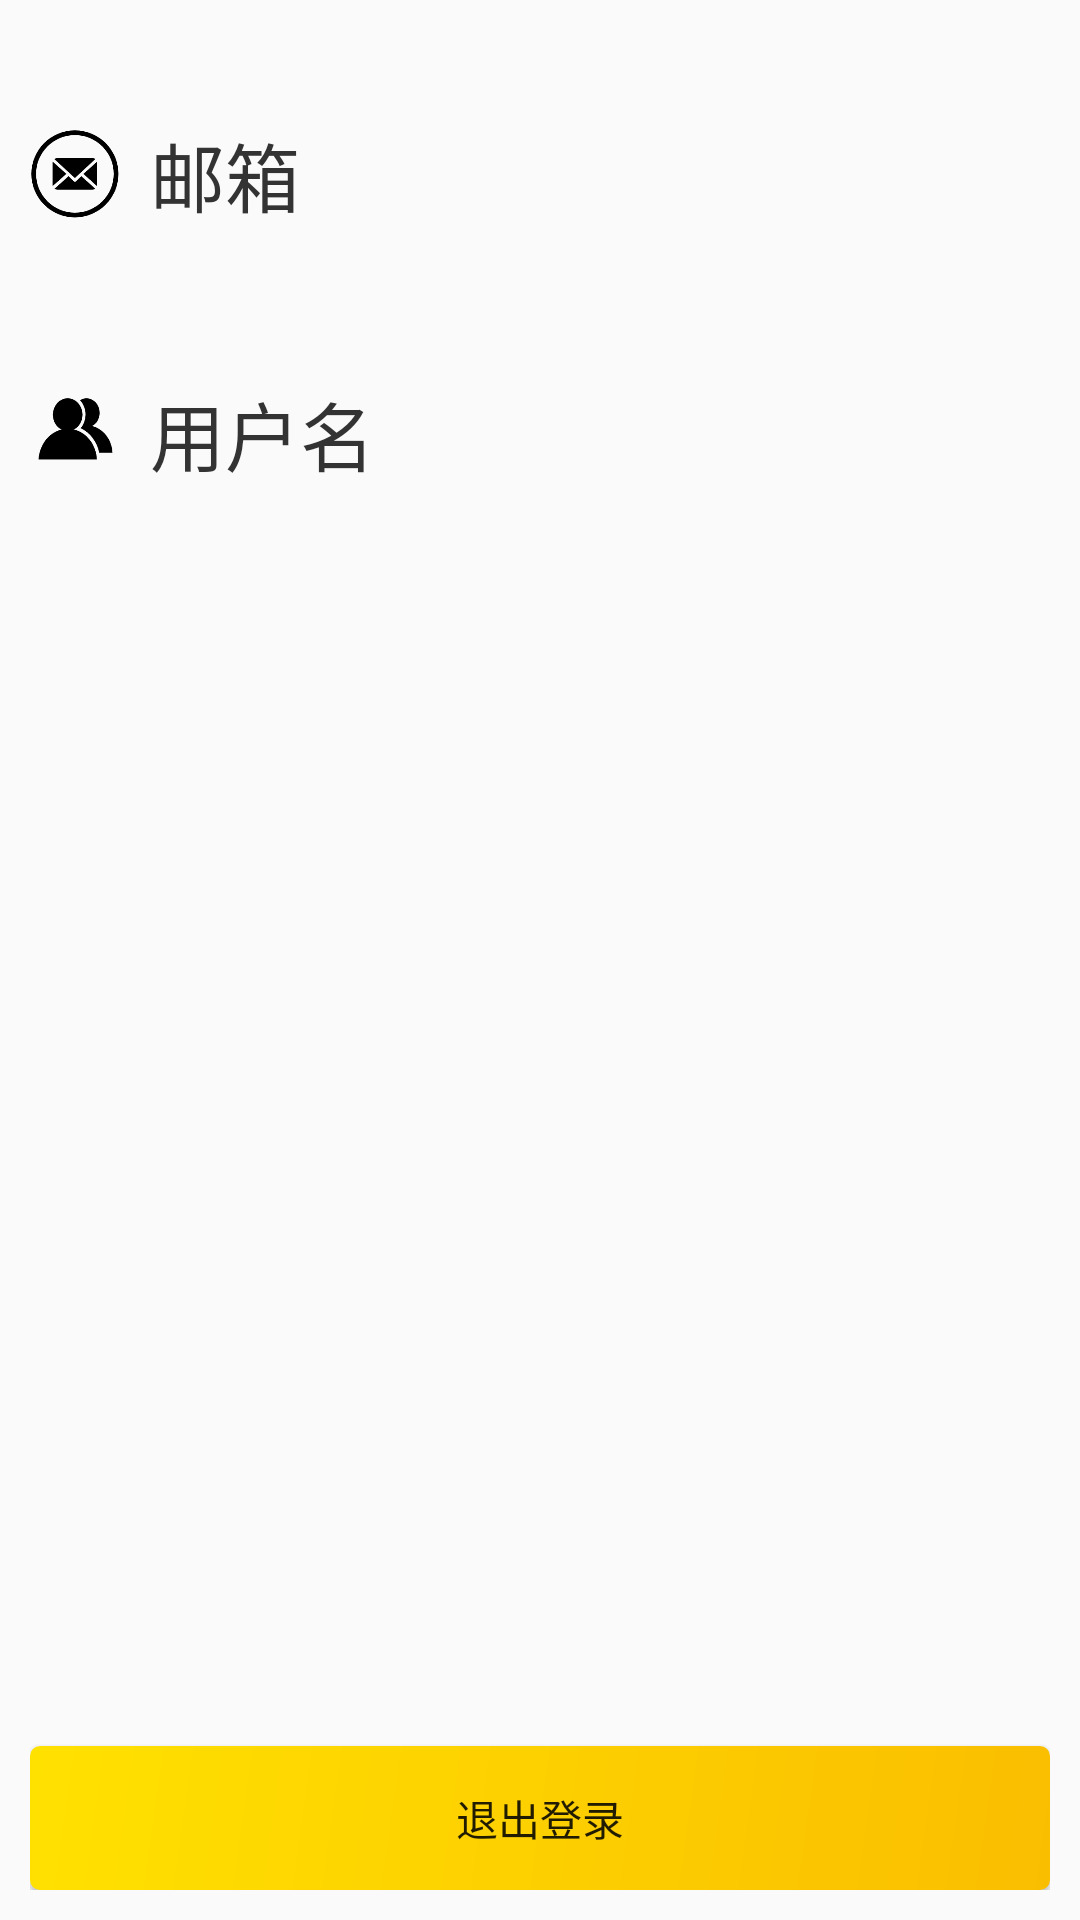

Named icons in this screenshot (1080 x 1920) and their bounding boxes, {"left": x1, "top": y1, "right": x2, "bottom": y2}:
email: {"left": 31, "top": 130, "right": 119, "bottom": 218}
username: {"left": 38, "top": 398, "right": 113, "bottom": 460}
